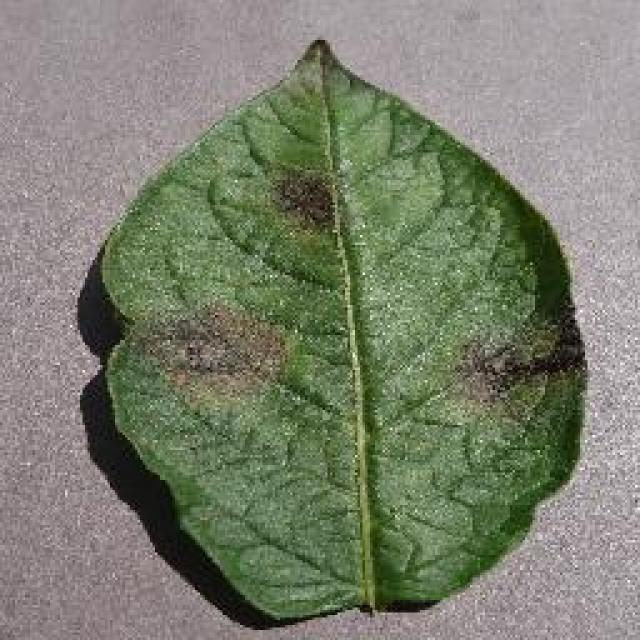late_blight: (92, 35, 590, 625)
